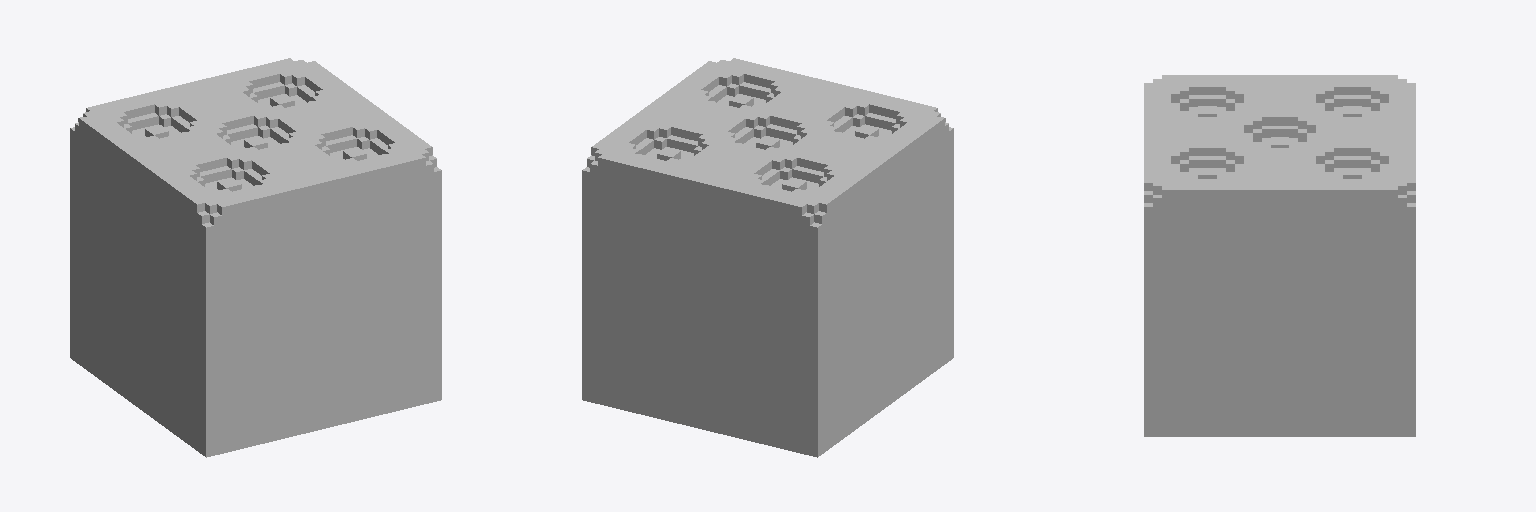
The model's file is spikes.obj.
The picture shows the model from 3 angles: view 1: azimuth 30°, elevation 25°; view 2: azimuth 150°, elevation 25°; view 3: azimuth 270°, elevation 25°; orthographic projection.
Visible parts, largest first — view 1: object 1; view 2: object 1; view 3: object 1.
Part boxes in pixels (x1,y1,x2,y2): object 1: (70,58,441,457); object 1: (582,58,953,457); object 1: (1144,75,1415,436).
Size of the model in its own units: 3 by 3 by 3.